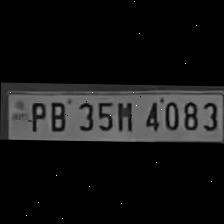0: (160, 96, 180, 130)
3: (72, 97, 94, 130), (198, 98, 220, 130)
4: (138, 97, 162, 130)
5: (94, 97, 114, 130)
8: (179, 97, 199, 130)
B: (45, 97, 69, 130)
M: (113, 96, 136, 130)
P: (24, 96, 46, 130)
